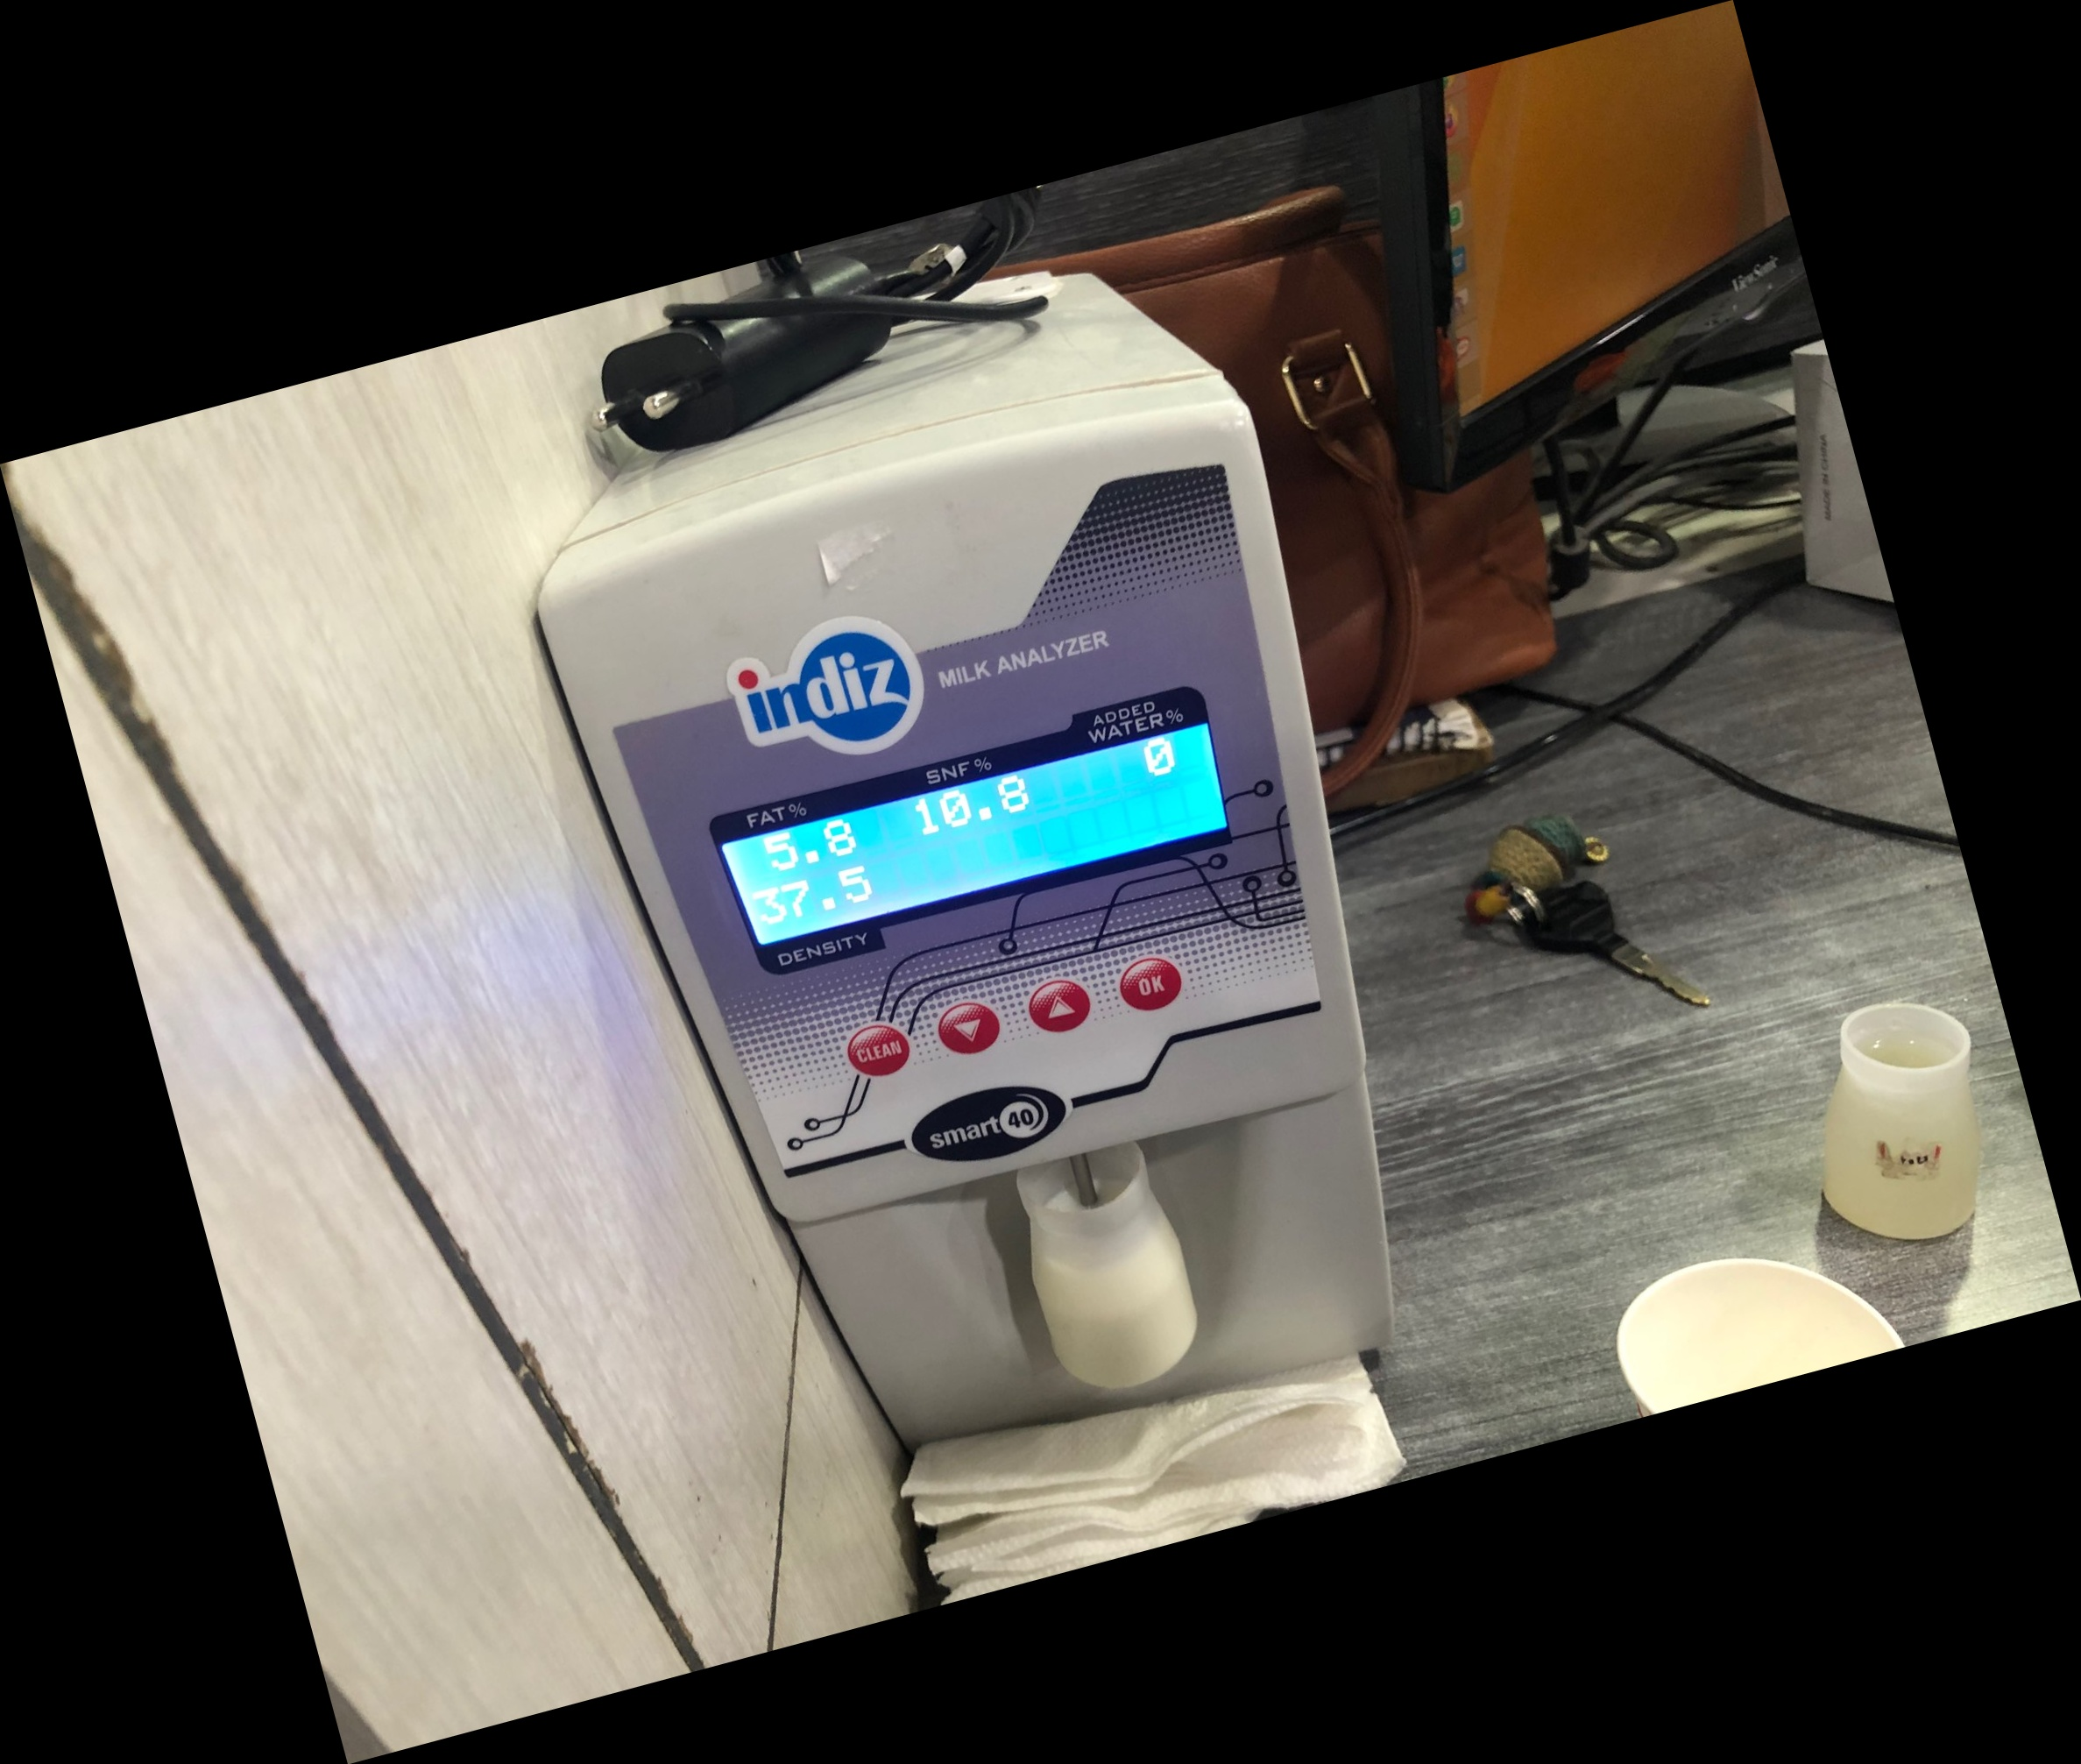lcd: (716, 698, 1255, 978)
